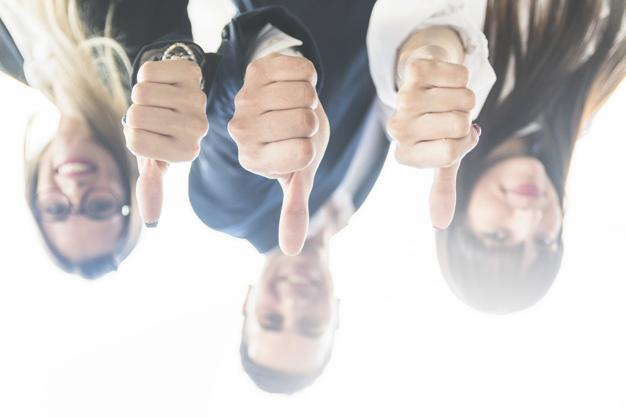thumbsdown: (226, 56, 320, 257), (387, 59, 482, 230), (125, 60, 208, 228)
